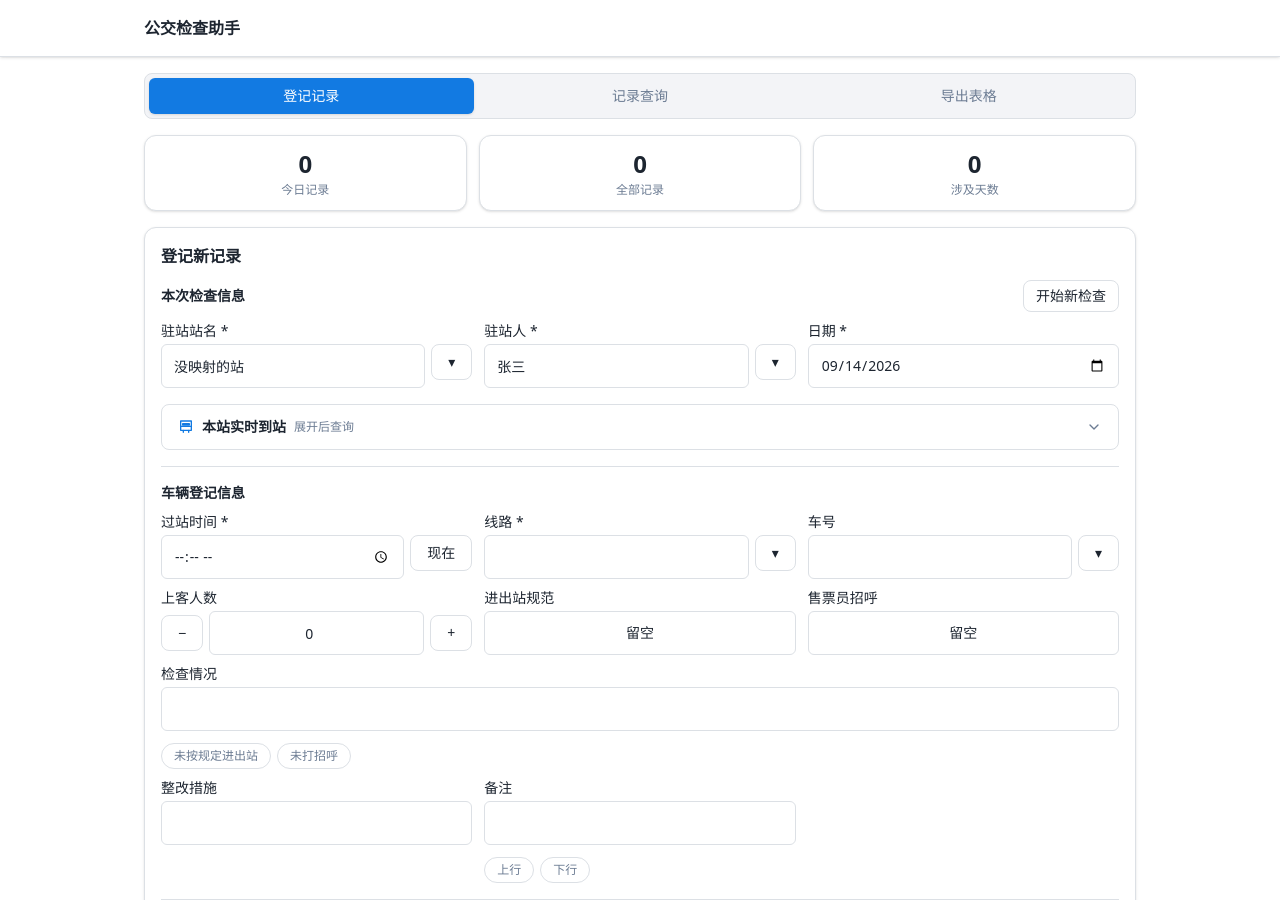
Test: 驻站实时到站面板 › 站点未匹配到映射时给出提示
What coordinates should you click on to do the following:
click the text "本站实时到站"
I would click on:
 (244, 427)
Its box is [202, 417, 286, 437].
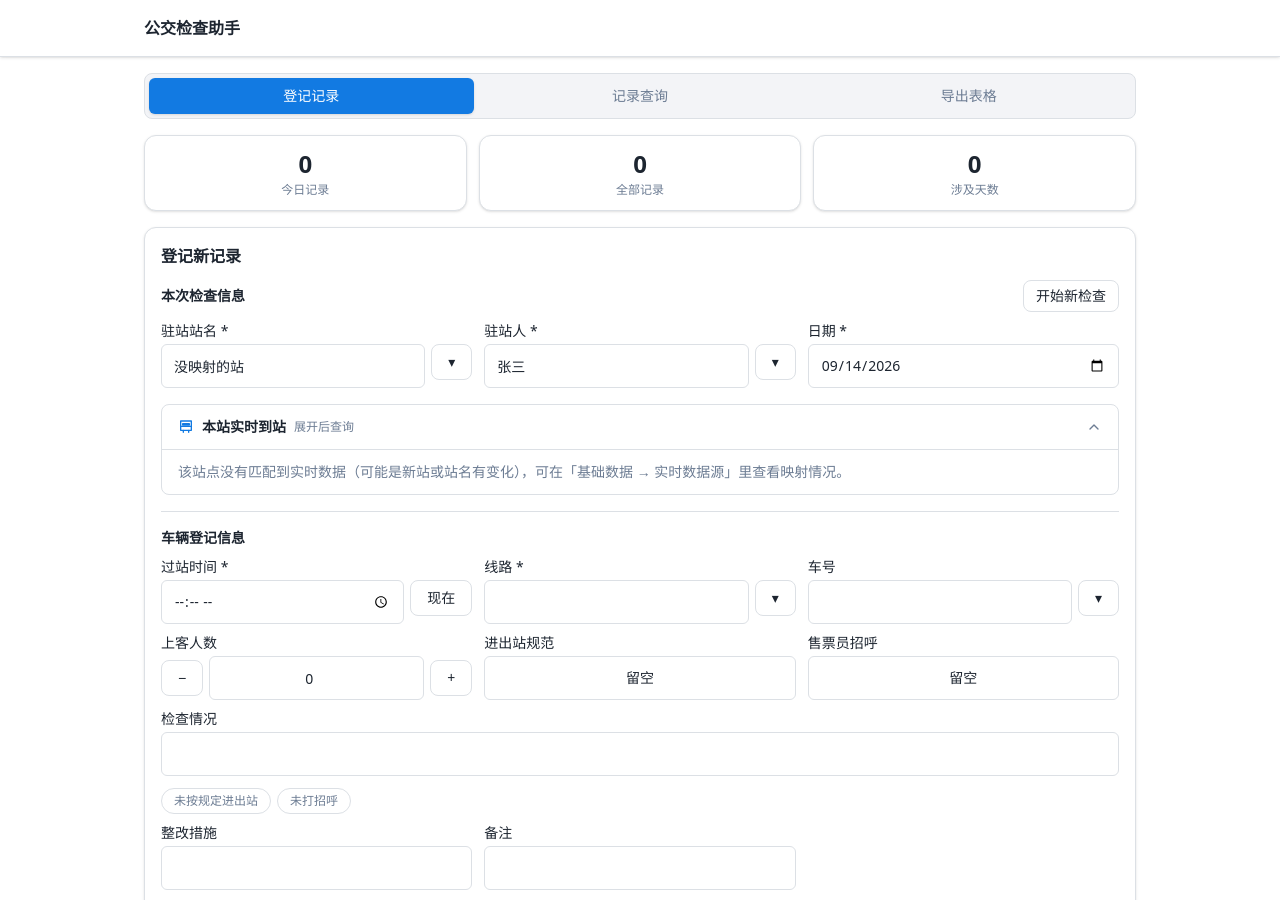
Expected: the text "该站点没有匹配到实时数据（可能是新站或站名有变化），可在「基础数据 → 实时数据源」里查看映射情况。" is shown, [178, 462, 850, 481]
